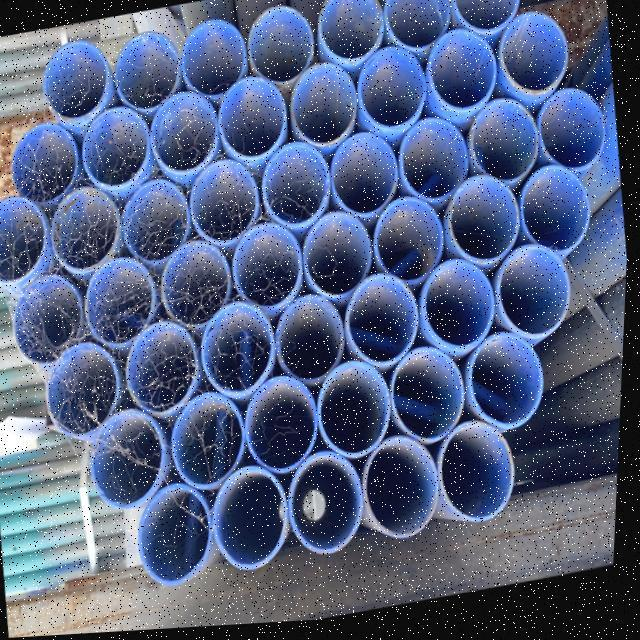pipe: (38, 162, 144, 296), (458, 75, 562, 204), (312, 114, 418, 240), (245, 125, 348, 252), (175, 138, 278, 264), (106, 153, 209, 278), (382, 96, 484, 220), (201, 57, 302, 181), (64, 84, 162, 210), (412, 22, 512, 143), (338, 36, 441, 151), (22, 20, 122, 138), (486, 4, 584, 123), (522, 73, 612, 198), (164, 0, 262, 112), (274, 51, 372, 162), (0, 103, 94, 218), (136, 77, 229, 190), (227, 0, 331, 101), (98, 18, 195, 125), (78, 409, 171, 512), (0, 268, 93, 370), (362, 435, 446, 547), (133, 483, 221, 589), (437, 424, 524, 531), (211, 463, 295, 573), (287, 452, 371, 560), (303, 0, 405, 87), (468, 335, 553, 439), (39, 341, 125, 442), (387, 347, 470, 450), (122, 319, 206, 420), (196, 299, 279, 399), (496, 245, 577, 346), (78, 259, 165, 352), (319, 358, 395, 463), (443, 179, 525, 276), (417, 264, 498, 362), (516, 167, 597, 265), (344, 275, 423, 373), (170, 396, 249, 493), (245, 381, 321, 478), (369, 197, 449, 289), (363, 0, 469, 69), (158, 241, 235, 334), (300, 213, 375, 306), (272, 297, 348, 388), (0, 173, 56, 296), (231, 225, 308, 314), (437, 0, 546, 56)
